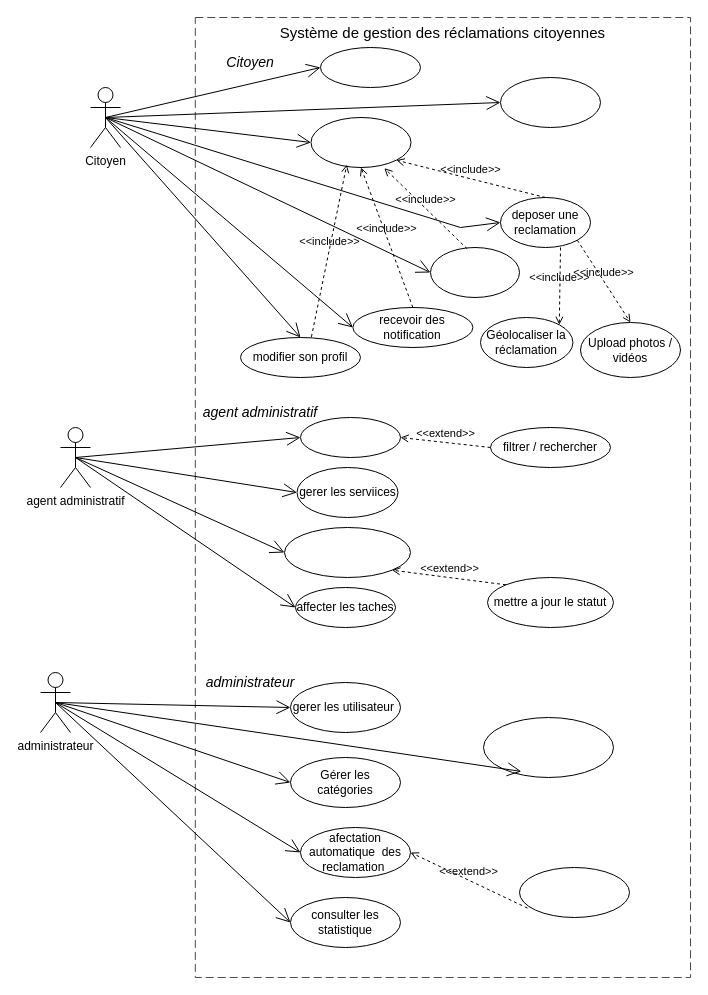
The diagram is 708 pixels wide and 995 high, and some of its shapes have lost their labels. The centre of each missing label's shape, as x and y in pixels:
"Consulter le tableau de bord" goes at (x=548, y=747).
"consulter les reclamation" goes at (x=350, y=437).
"creer un compte" goes at (x=370, y=67).
"notifier l'agent" goes at (x=574, y=892).
"se connecter" goes at (x=360, y=142).
"se deconnecter" goes at (x=550, y=102).
"traiter et repondre au citoyen" goes at (x=347, y=552).
"voir la statut" goes at (x=475, y=272).
